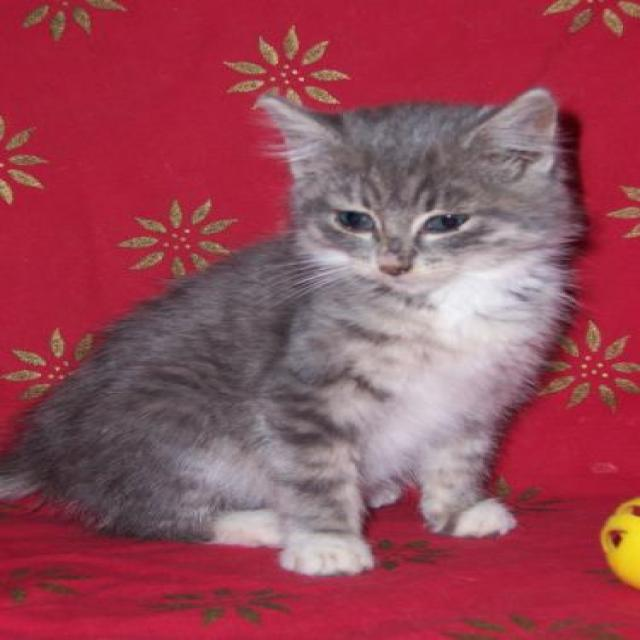Cats: (0, 84, 589, 576)
